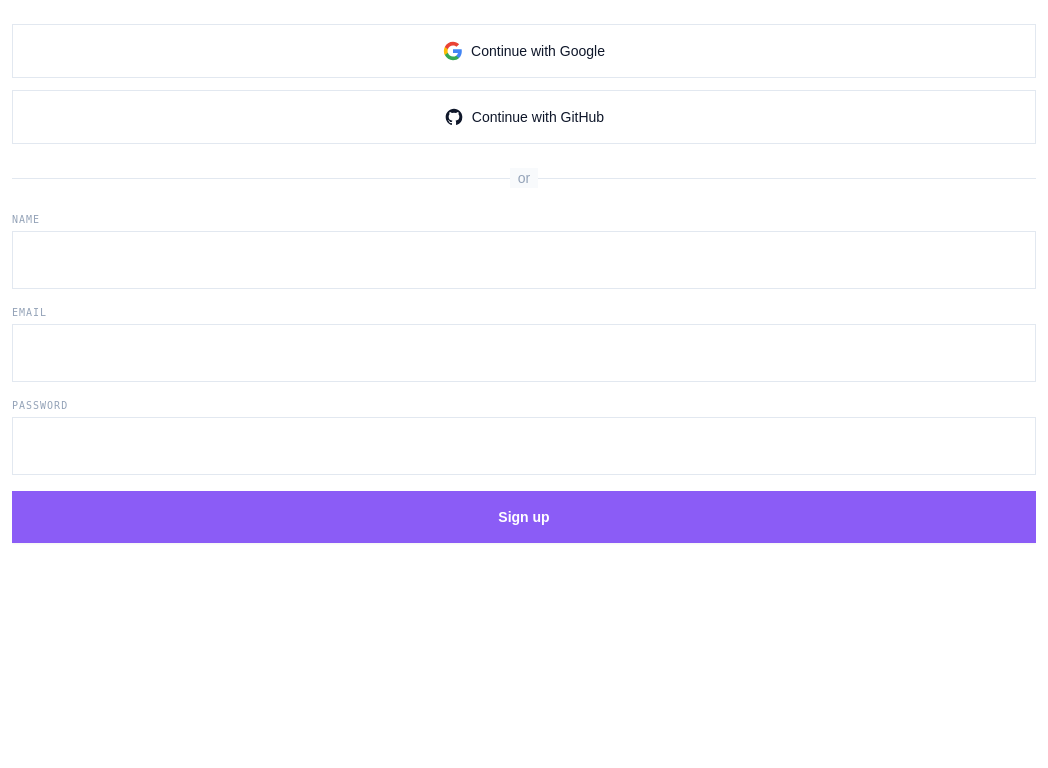
Test: SignupForm › shows error message when sign-up fails
This screenshot has width=1048, height=768.
Type "Test User" into the field labelled "Name" at (524, 260), box [12,231,1036,289]
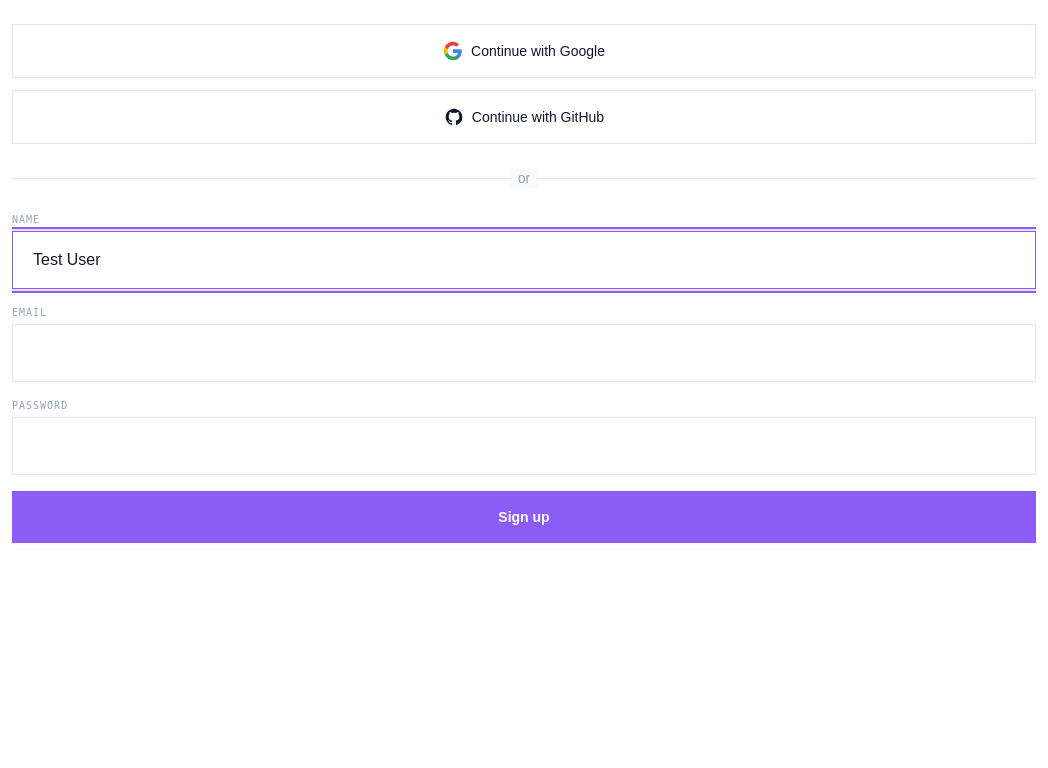
Type "taken@example.com" into the field labelled "Email" at (524, 353), box [12,324,1036,382]
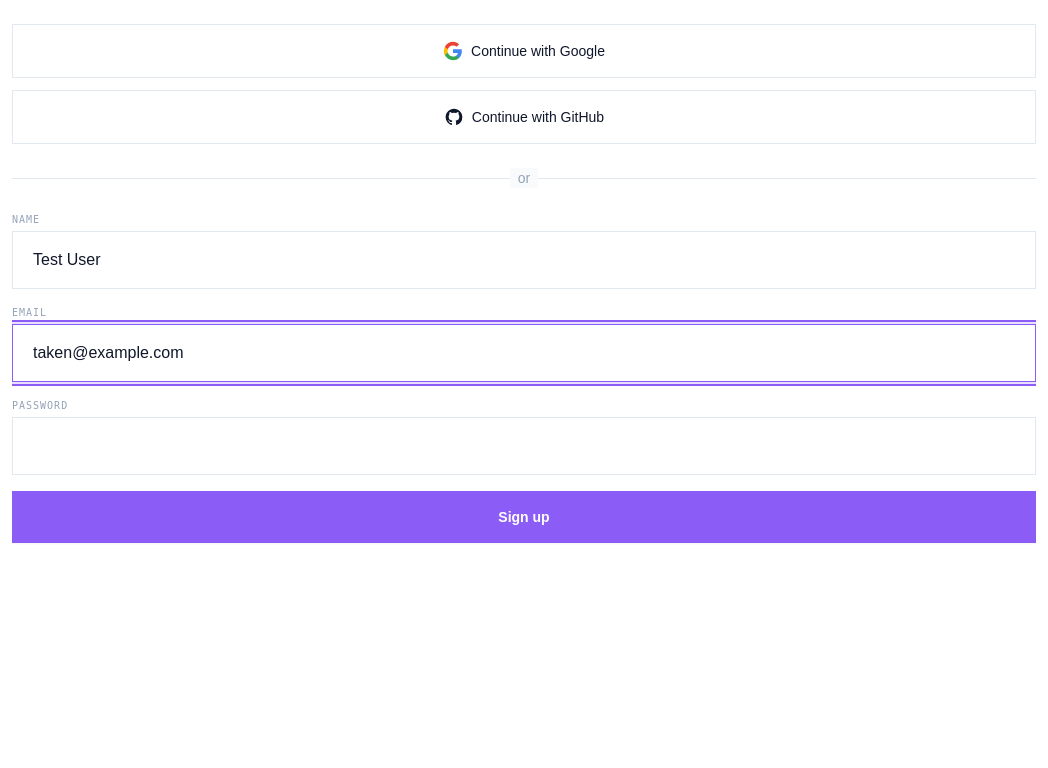
Type "securePassword123" into the password field labelled "Password" at (524, 446), box [12,417,1036,475]
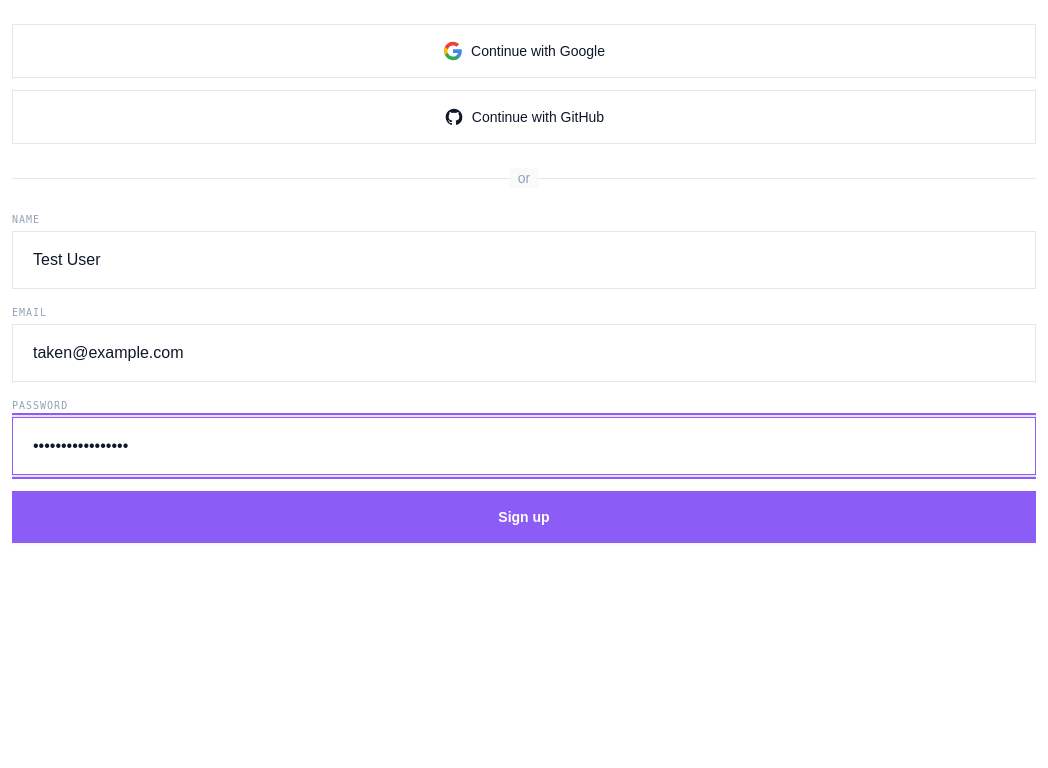
Click the button "Sign up" at (524, 517), box [12,491,1036,543]
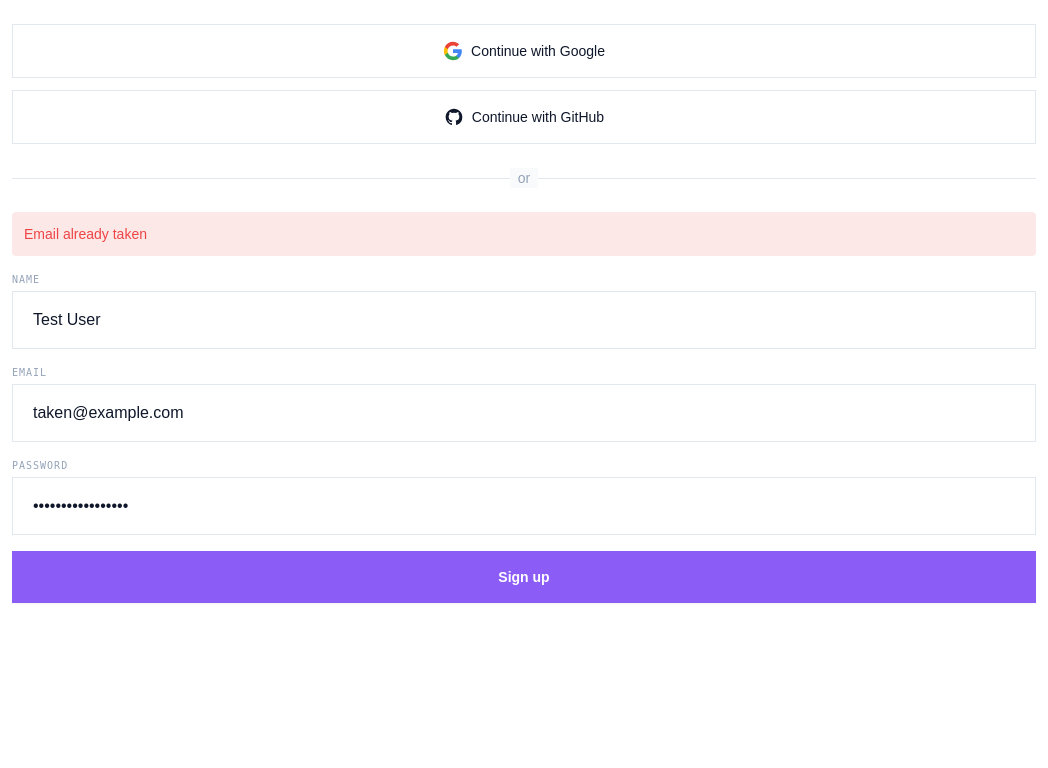
Expected: the text "Email already taken" is shown, [12,212,1036,256]
